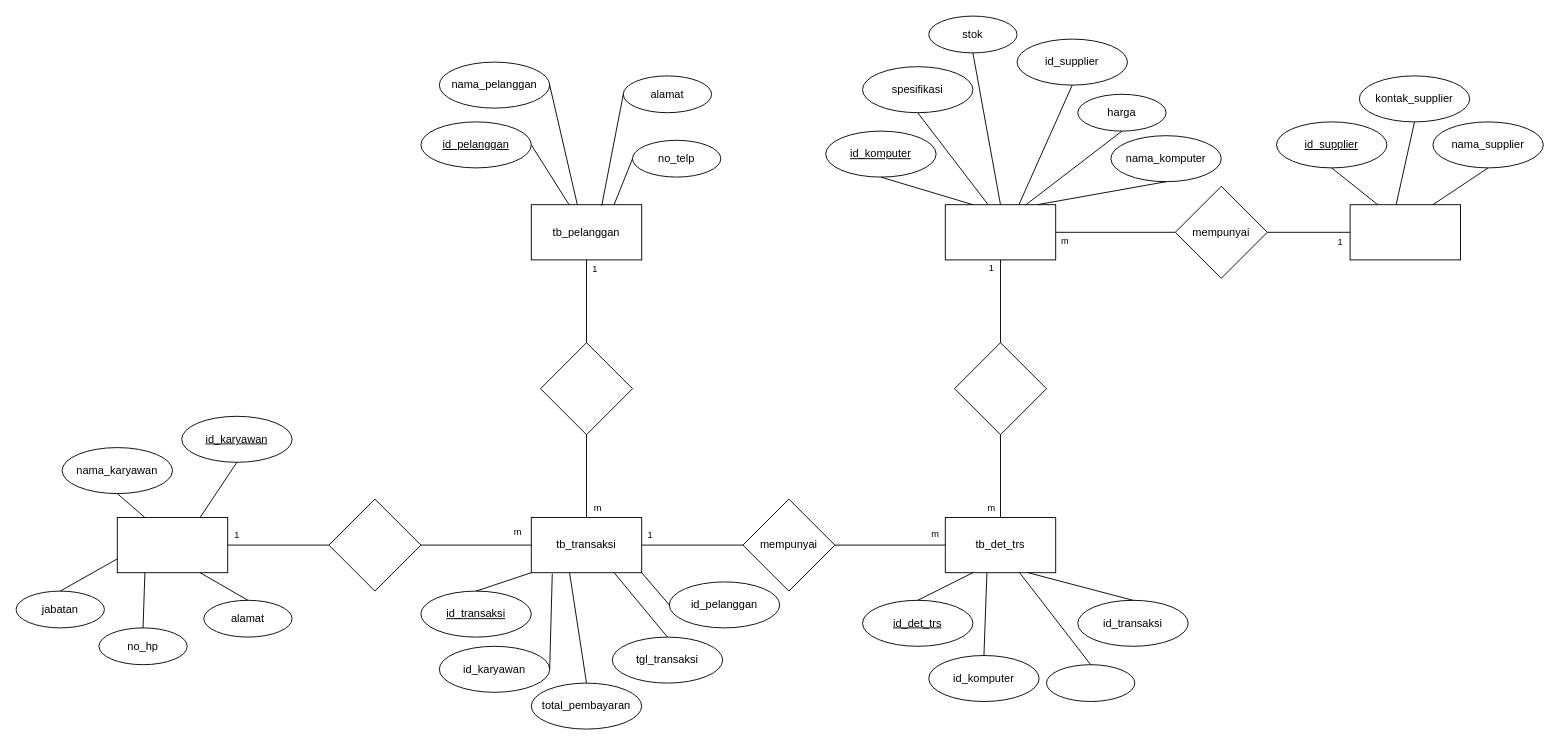
This 1559x745 diagram has some shape labels left out. The centre of each missing label's shape, as x and y in pixels:
jumlah: [1090,683]
melakukan: [586,388]
mengelola: [374,544]
menyimpan: [1000,388]
tb_karyawan: [172,545]
tb_komputer: [1000,232]
tb_supplier: [1404,232]
